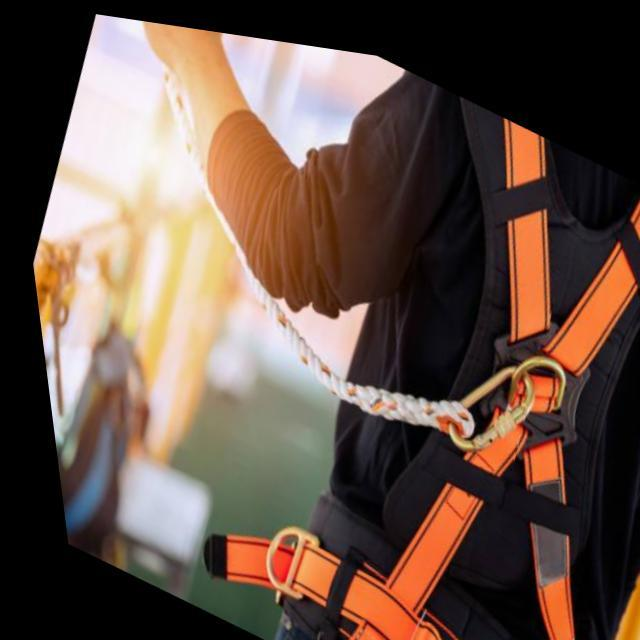belt: (169, 24, 640, 640)
